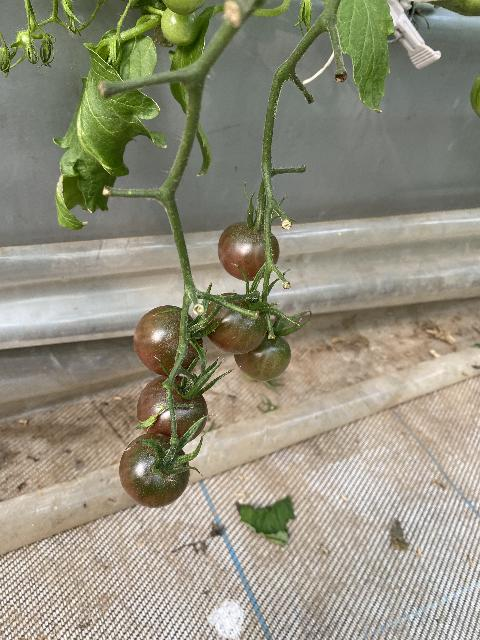l_green: (161, 8, 199, 47), (162, 0, 207, 16)
l_half_ripened: (119, 433, 190, 509), (136, 375, 208, 445), (133, 305, 203, 375), (205, 292, 269, 354), (218, 222, 280, 282), (234, 330, 291, 382)
